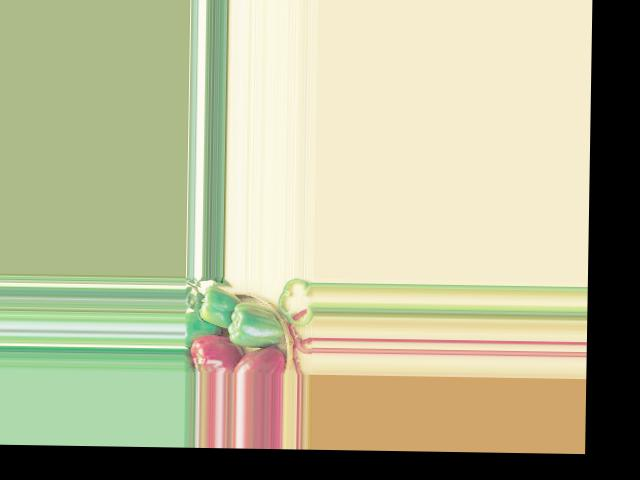bell_pepper: (232, 348, 286, 373)
